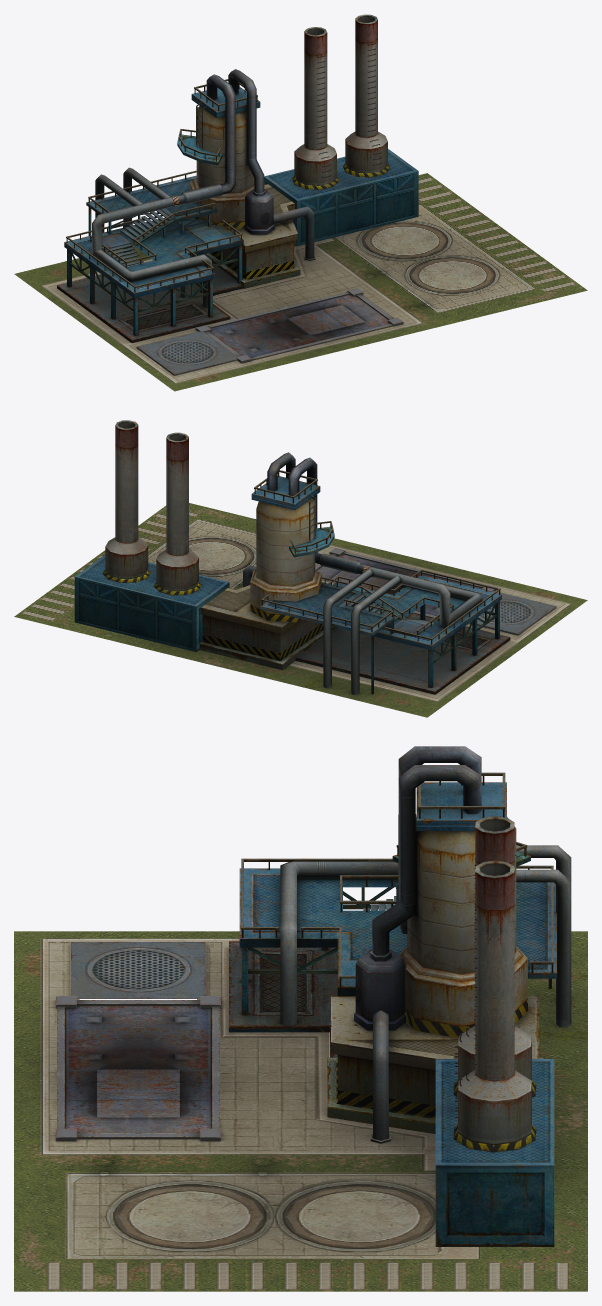
File: Dhz_OilRefinery_01.FBX
3 renders of one model, top to bottom at view 1: azimuth 30°, elevation 25°; view 2: azimuth 150°, elevation 25°; view 3: azimuth 270°, elevation 25°, orthographic. The views are drawn at different scales.
Visible parts, largest first — view 1: Dhz_Refinery_01; view 2: Dhz_Refinery_01; view 3: Dhz_Refinery_01.
Boxes of the visible parts, x1,y1,x2,y2 form: Dhz_Refinery_01: (14, 14, 587, 391); Dhz_Refinery_01: (14, 420, 587, 717); Dhz_Refinery_01: (14, 746, 587, 1291).
Bounding box in the file's own units: 184 × 82.95 × 124.
